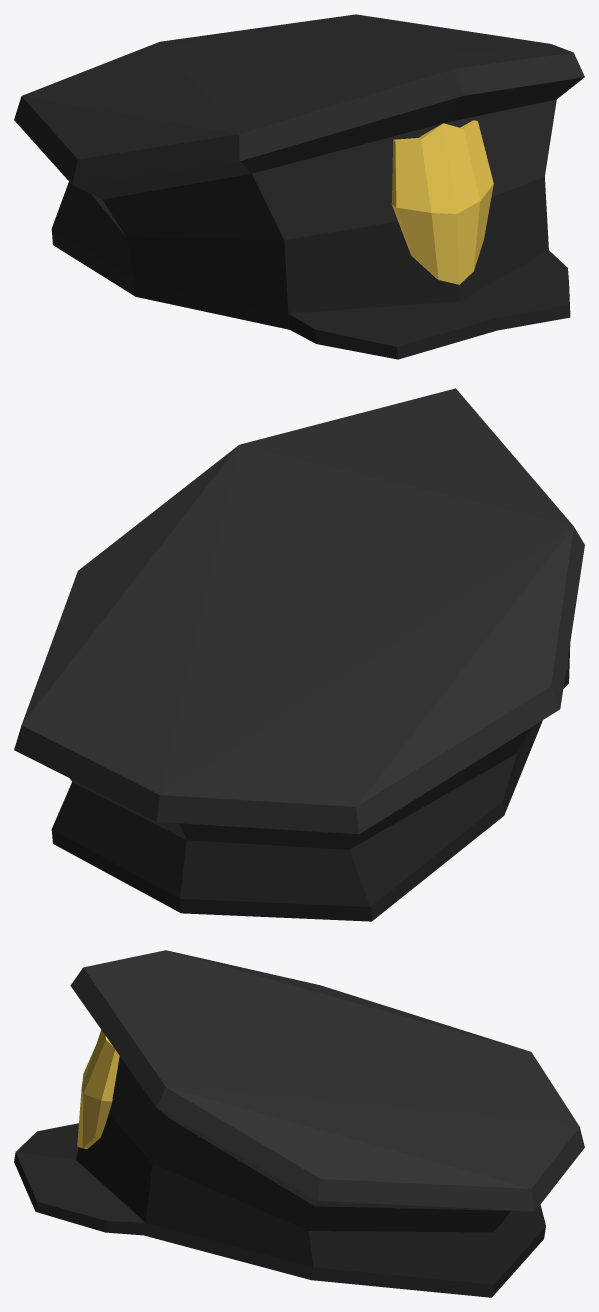
File: Police_M_Hat.fbx
The picture shows the model from 3 angles, top to bottom: view 1: azimuth 30°, elevation 25°; view 2: azimuth 150°, elevation 25°; view 3: azimuth 270°, elevation 25°; orthographic projection. The views are drawn at different scales.
Visible parts, largest first — view 1: Police_M_Hat; view 2: Police_M_Hat; view 3: Police_M_Hat.
Boxes of the visible parts, box(x1,y1,x2,y2) form: Police_M_Hat: box(14, 14, 584, 359); Police_M_Hat: box(14, 388, 584, 921); Police_M_Hat: box(14, 950, 584, 1297).
Size of the model in its own units: 27.83 by 17.65 by 33.61.
